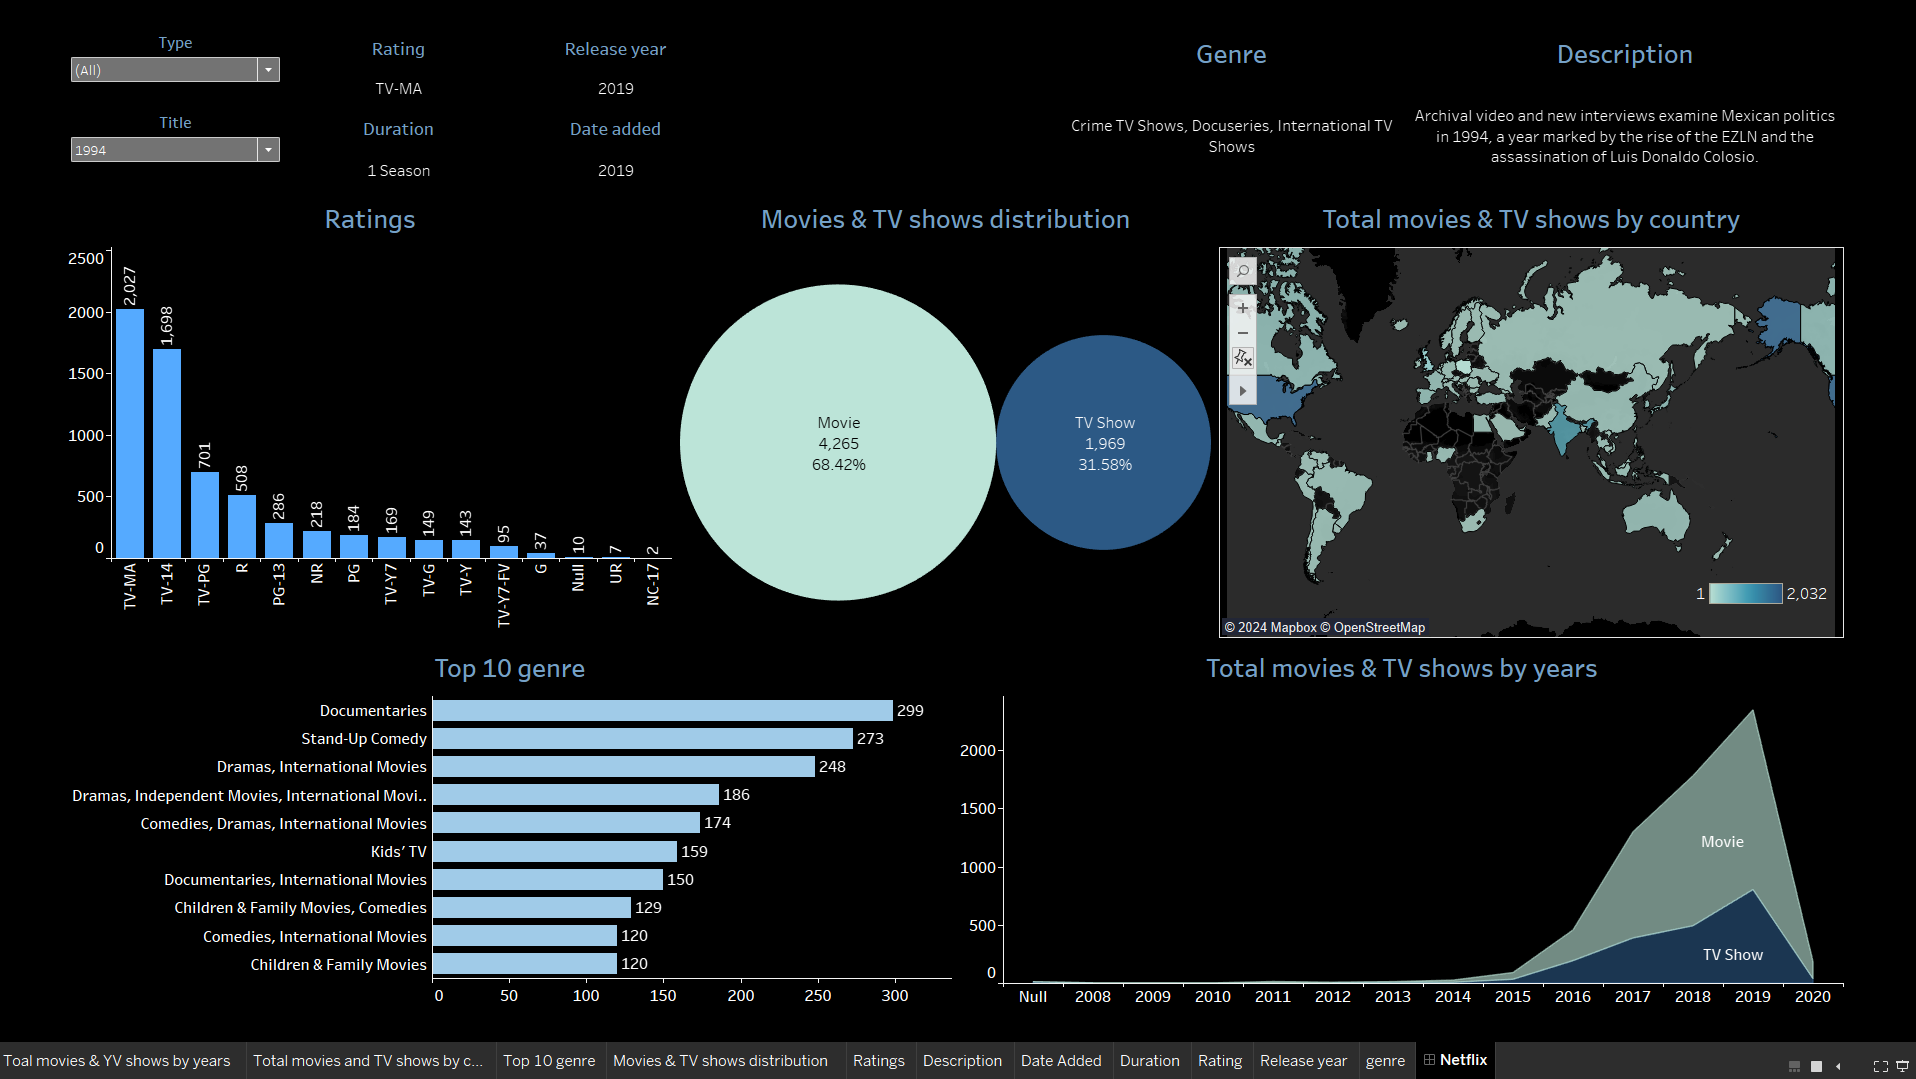

The page's visual inventory and layout, read from the dashboard file:
{"tool":"tableau","page":{"name":"Netflix","canvas":[1800,1000],"ordinal":0},"visuals":[{"type":"filter","title":"Description","param":"[federated.1ezazgk0x38ttj1et5cb30a7ozk9].[none:type:nk]","box":[8,8,223,80]},{"type":"worksheet","title":"Rating","mark":"Automatic","box":[231,8,223,80]},{"type":"worksheet","title":"Release year","mark":"Automatic","box":[454,8,211,80]},{"type":"image","param":"E:/CHANDAN VARIYA/Tops_Tableau/Netflix Databash/Netflix Dashboard.twb Files/Imag","box":[665,8,340.5,165]},{"type":"worksheet","title":"genre","mark":"Automatic","box":[1005.5,8,340.5,165]},{"type":"worksheet","title":"Description","mark":"Automatic","box":[1346,8,446,165]},{"type":"filter","title":"Description","param":"[federated.1ezazgk0x38ttj1et5cb30a7ozk9].[none:title:nk]","box":[8,88,223,85]},{"type":"worksheet","title":"Duration","mark":"Automatic","box":[231,88,223,85]},{"type":"worksheet","title":"Date Added","mark":"Automatic","box":[454,88,211,85]},{"type":"worksheet","title":"Ratings","mark":"Automatic","rows":["show_id"],"cols":["rating"],"box":[8,173,612,449.3]},{"type":"worksheet","title":"Movies & TV shows distribution","mark":"Circle","box":[620,173,539,449.3]},{"type":"worksheet","title":"Total movies and TV shows by country","mark":"Multipolygon","box":[1159,173,633,449.3]},{"type":"legend","title":"Total movies and TV shows by country","param":"[federated.1ezazgk0x38ttj1et5cb30a7ozk9].[ctd:show_id:qk]","box":[1636,559,140,53]},{"type":"worksheet","title":"Top 10 genre","mark":"Automatic","rows":["listed_in"],"cols":["show_id"],"box":[8,622.3,892,369.7]},{"type":"worksheet","title":"Toal movies & YV shows by years","mark":"Area","rows":["show_id"],"cols":["date_added"],"box":[900,622.3,892,369.7]}]}

Visuals, with their boxes on the page's 1800x1000 design canvas (x1, y1, x2, y2). These are canvas units, not pixel positions in the 1916x1079 screenshot, which may show the page scaled, cropped or inside an application window:
"Description" filter: [x1=8, y1=8, x2=231, y2=88]
"Rating" worksheet: [x1=231, y1=8, x2=454, y2=88]
"Release year" worksheet: [x1=454, y1=8, x2=665, y2=88]
image: [x1=665, y1=8, x2=1006, y2=173]
"genre" worksheet: [x1=1006, y1=8, x2=1346, y2=173]
"Description" worksheet: [x1=1346, y1=8, x2=1792, y2=173]
"Description" filter: [x1=8, y1=88, x2=231, y2=173]
"Duration" worksheet: [x1=231, y1=88, x2=454, y2=173]
"Date Added" worksheet: [x1=454, y1=88, x2=665, y2=173]
"Ratings" worksheet: [x1=8, y1=173, x2=620, y2=622]
"Movies & TV shows distribution" worksheet (Circle marks): [x1=620, y1=173, x2=1159, y2=622]
"Total movies and TV shows by country" worksheet (Multipolygon marks): [x1=1159, y1=173, x2=1792, y2=622]
"Total movies and TV shows by country" legend: [x1=1636, y1=559, x2=1776, y2=612]
"Top 10 genre" worksheet: [x1=8, y1=622, x2=900, y2=992]
"Toal movies & YV shows by years" worksheet (Area marks): [x1=900, y1=622, x2=1792, y2=992]
